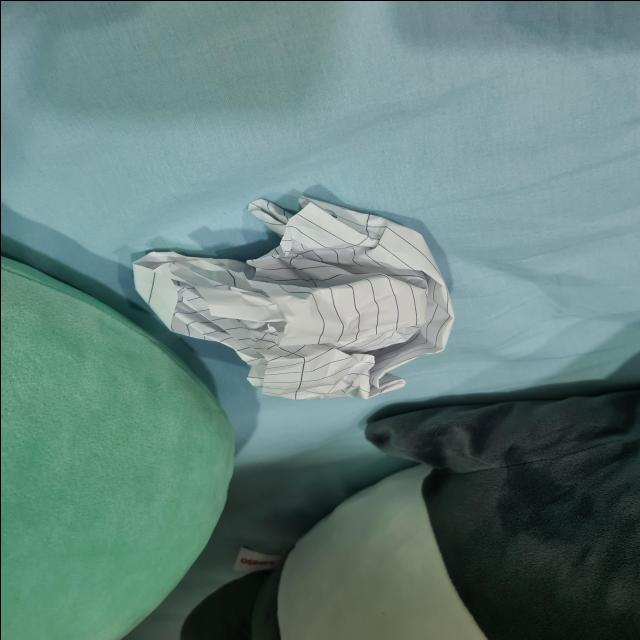kertas: (126, 201, 448, 398)
